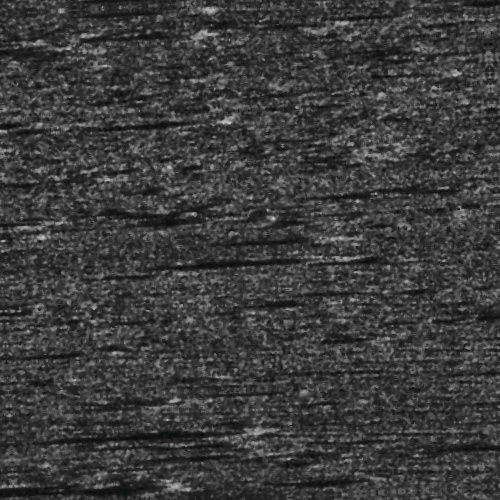object: (296, 257, 359, 264), (302, 237, 365, 242), (204, 115, 245, 122), (183, 2, 224, 7)
shadow: (148, 257, 327, 264), (430, 6, 500, 21), (112, 115, 225, 122), (227, 237, 334, 242), (128, 2, 203, 7), (408, 455, 500, 458)
